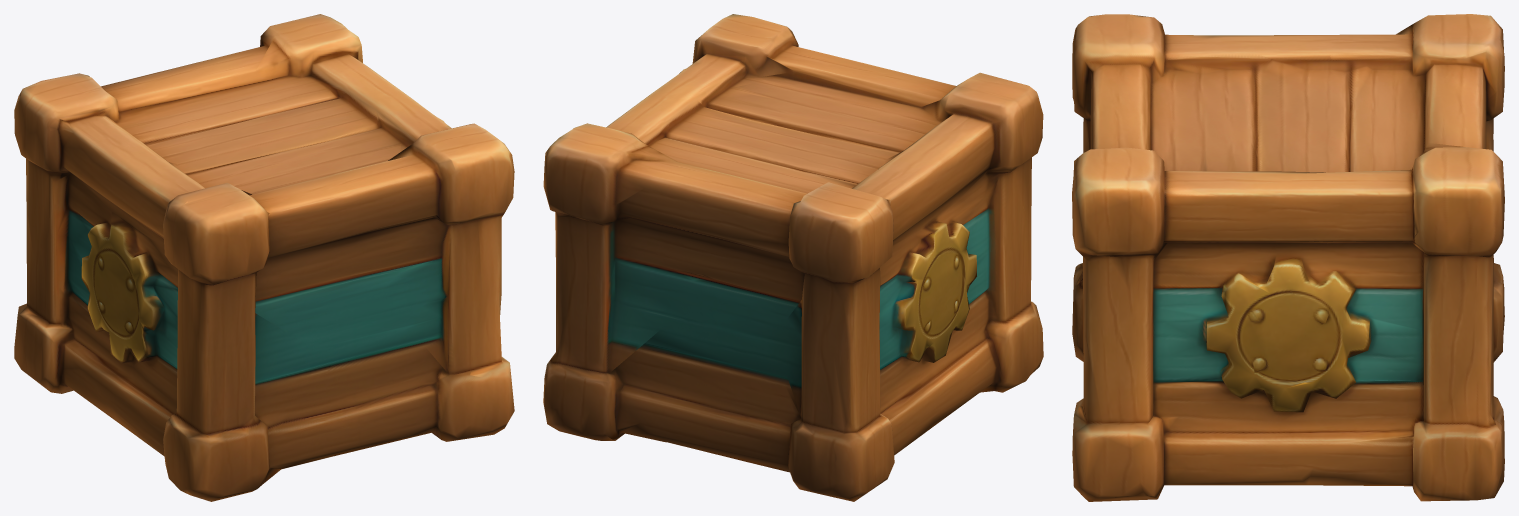
The model's file is Kit_X_Crate_raw.glb.
The picture shows the model from 3 angles, left to right: view 1: azimuth 30°, elevation 25°; view 2: azimuth 150°, elevation 25°; view 3: azimuth 270°, elevation 25°; orthographic projection. The views are drawn at different scales.
Visible parts, largest first — view 1: tripo_node_56c9699d-d402-4d61-9925-51528fdbccac; view 2: tripo_node_56c9699d-d402-4d61-9925-51528fdbccac; view 3: tripo_node_56c9699d-d402-4d61-9925-51528fdbccac.
Part boxes in pixels (x1,y1,x2,y2): tripo_node_56c9699d-d402-4d61-9925-51528fdbccac: (14,14,514,501); tripo_node_56c9699d-d402-4d61-9925-51528fdbccac: (543,14,1043,501); tripo_node_56c9699d-d402-4d61-9925-51528fdbccac: (1072,14,1504,501).
Size of the model in its own units: 0.9674 by 0.8235 by 1.
1 material, 1 textured.
